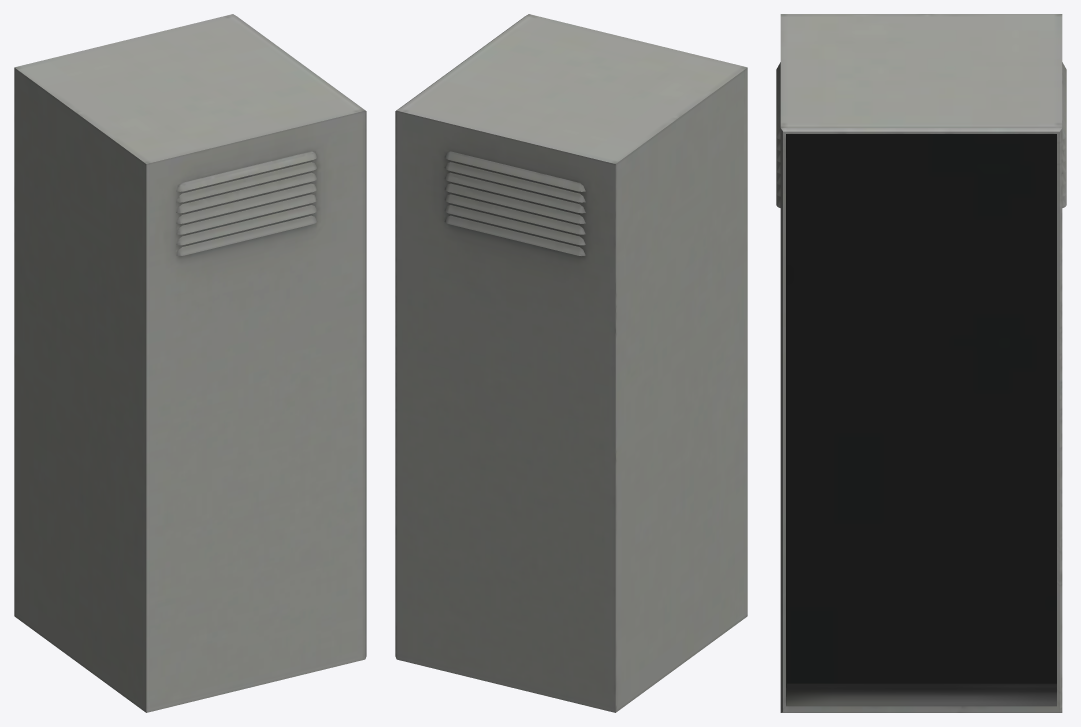
3 views of the same model, side by side, from view 1: azimuth 30°, elevation 25°; view 2: azimuth 150°, elevation 25°; view 3: azimuth 270°, elevation 25° (orthographic). The views are drawn at different scales.
Parts seen in each view (by area): view 1: body0_model0_lod0_mesh0; view 2: body0_model0_lod0_mesh0; view 3: body0_model0_lod0_mesh0.
Part boxes in pixels (box(x1,y1,x2,y2)): body0_model0_lod0_mesh0: box(14, 14, 366, 712); body0_model0_lod0_mesh0: box(395, 14, 747, 712); body0_model0_lod0_mesh0: box(776, 14, 1066, 712).
Bounding box in the file's own units: 48.36 × 114 × 51.43.
1 material, 1 textured.
